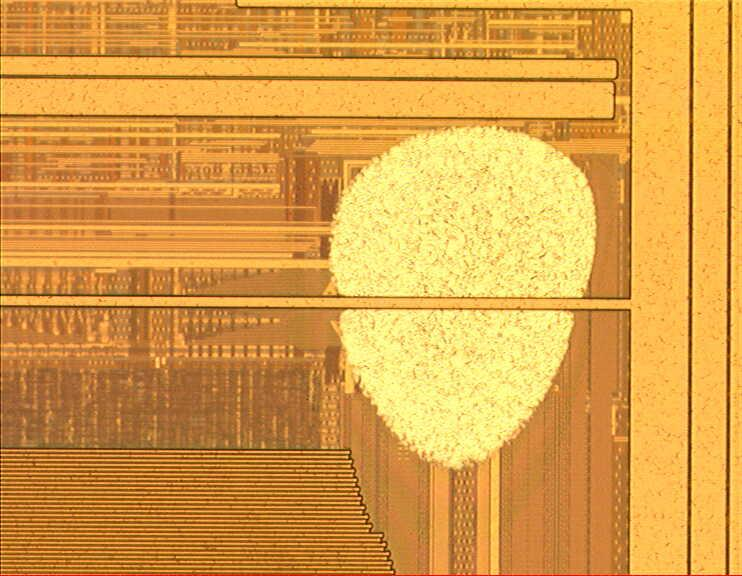BLOCK ETCH: (323, 120, 610, 475)
